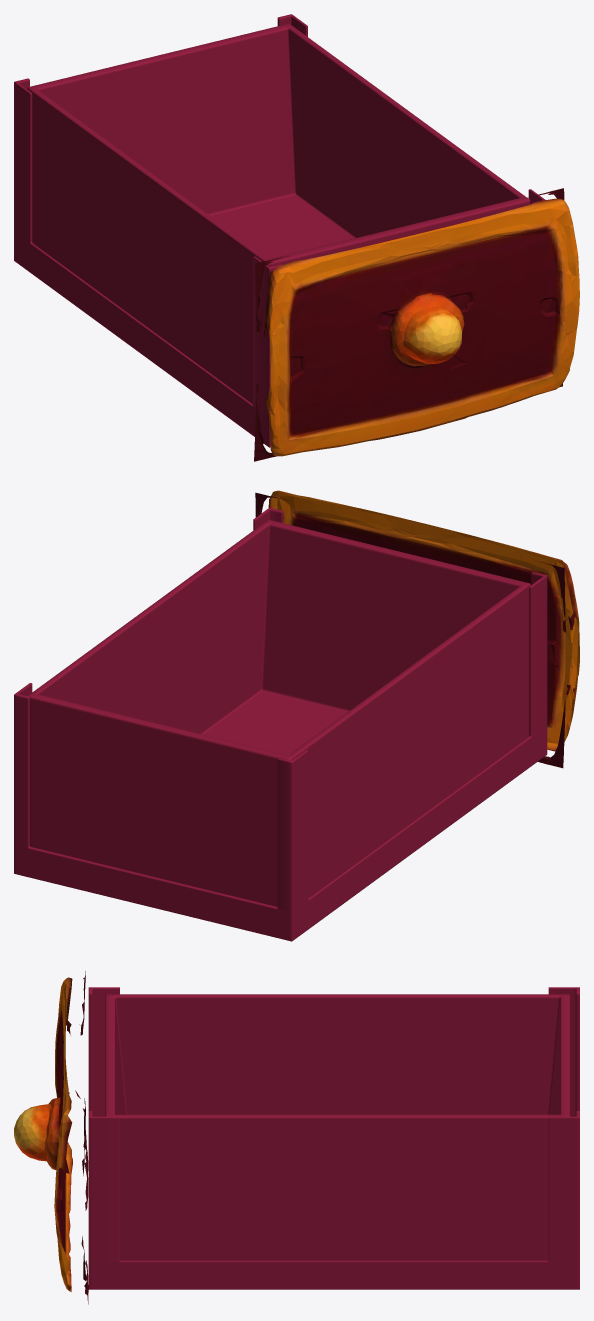
File: drawer_middle.glb
3 renders of one model, top to bottom at view 1: azimuth 30°, elevation 25°; view 2: azimuth 150°, elevation 25°; view 3: azimuth 270°, elevation 25°, orthographic. The views are drawn at different scales.
Parts seen in each view (by area): view 1: prefab_drawer_body_2, source_front_cap_0; view 2: prefab_drawer_body_2, source_front_cap_0; view 3: prefab_drawer_body_2, source_front_cap_0.
Part boxes in pixels (<box>): prefab_drawer_body_2: <box>14,14,545,447</box>; source_front_cap_0: <box>254,188,579,461</box>; prefab_drawer_body_2: <box>14,507,547,941</box>; source_front_cap_0: <box>255,490,579,768</box>; prefab_drawer_body_2: <box>88,987,579,1289</box>; source_front_cap_0: <box>14,971,88,1304</box>.
Size of the model in its own units: 0.3226 by 0.1989 by 0.5323.
Materials: 2 (1 with a texture image).
